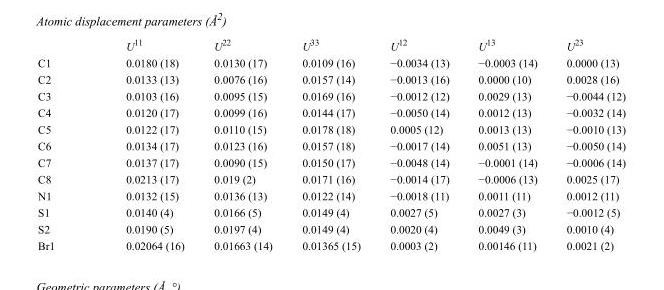table: (37, 36, 624, 251)
table column: (89, 36, 198, 251), (374, 36, 463, 251), (198, 36, 286, 251), (286, 36, 374, 251), (463, 36, 551, 251), (551, 36, 624, 251), (37, 36, 89, 251)
table column header: (37, 36, 624, 54)
table row: (37, 36, 624, 54), (37, 70, 624, 87), (37, 103, 624, 120), (37, 120, 624, 137), (37, 153, 624, 170), (37, 170, 624, 187), (37, 203, 624, 220), (37, 54, 624, 70), (37, 87, 624, 103), (37, 137, 624, 153), (37, 187, 624, 203), (37, 220, 624, 236), (37, 236, 624, 251)
